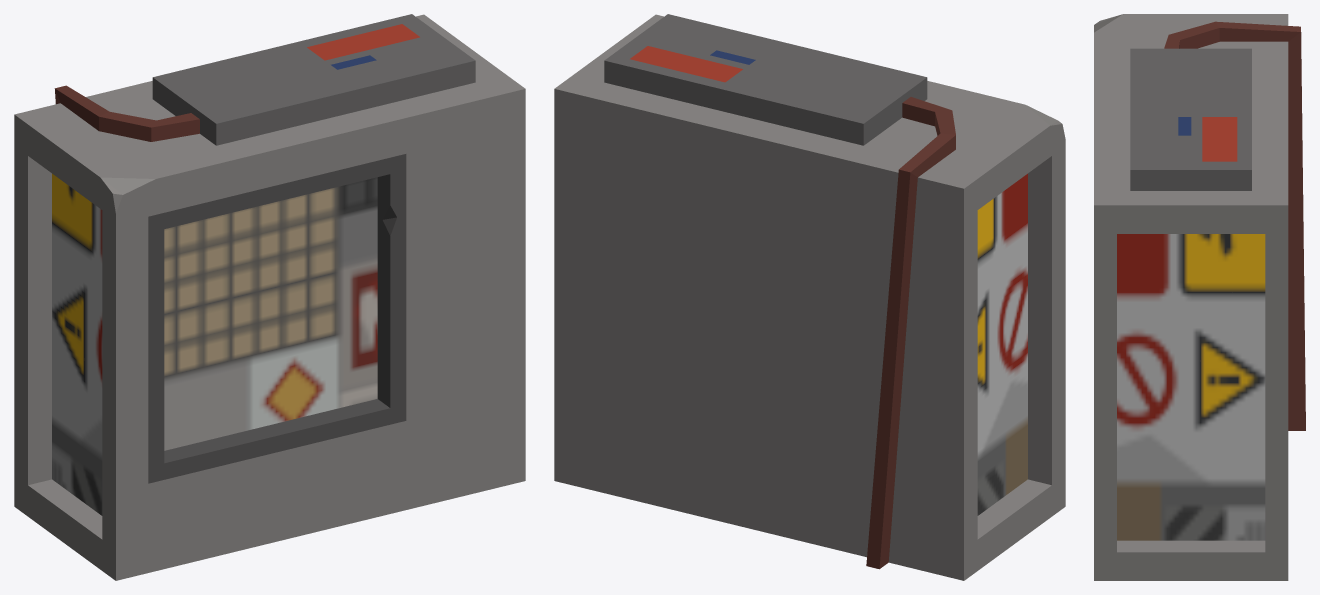
Rendered from SM_Gen_Prop_Aircon_02.glb.
3 views of the same model, side by side, from view 1: azimuth 30°, elevation 25°; view 2: azimuth 150°, elevation 25°; view 3: azimuth 270°, elevation 25° (orthographic). The views are drawn at different scales.
Parts seen in each view (by area): view 1: SM_Gen_Prop_Aircon_02; view 2: SM_Gen_Prop_Aircon_02; view 3: SM_Gen_Prop_Aircon_02.
Part boxes in pixels (<box>): SM_Gen_Prop_Aircon_02: <box>14,14,525,580</box>; SM_Gen_Prop_Aircon_02: <box>554,14,1065,580</box>; SM_Gen_Prop_Aircon_02: <box>1094,14,1305,580</box>.
Bounding box in the file's own units: 0.8229 × 0.7947 × 0.385.
1 material, 1 textured.
